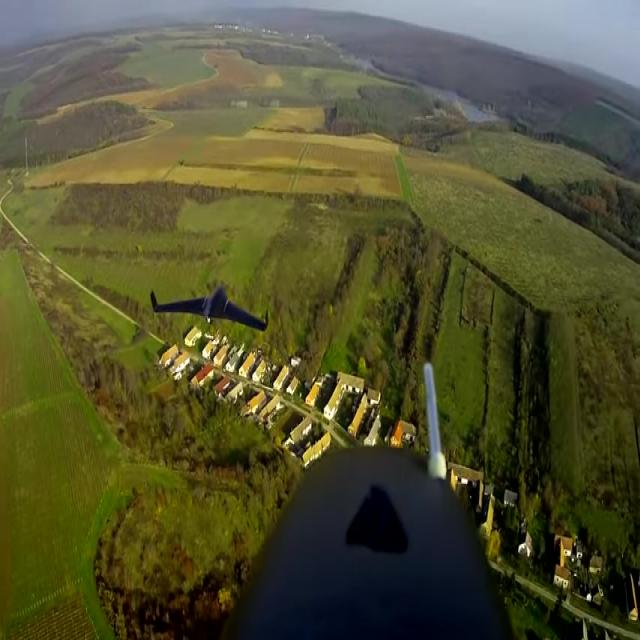iha: (181, 281, 237, 334)
